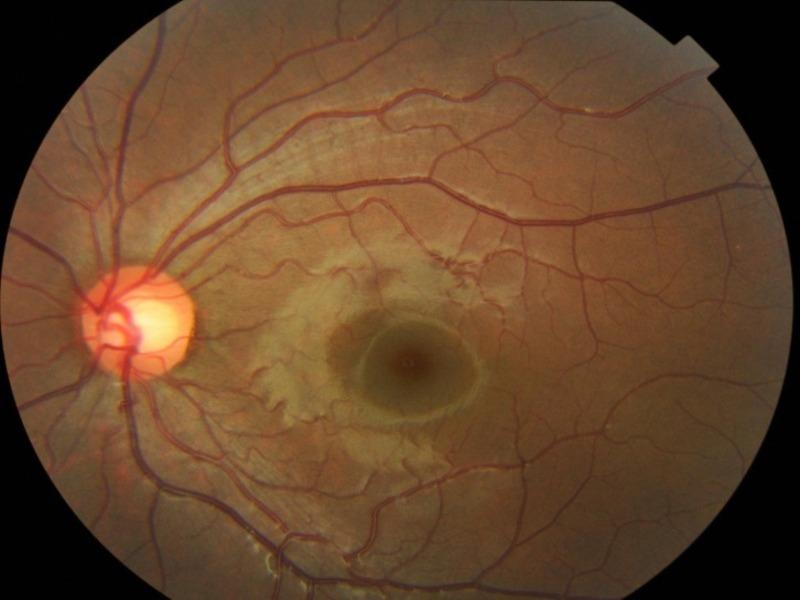Optic Cup: (123, 300, 176, 349)
Optic Disc: (79, 264, 193, 384)
